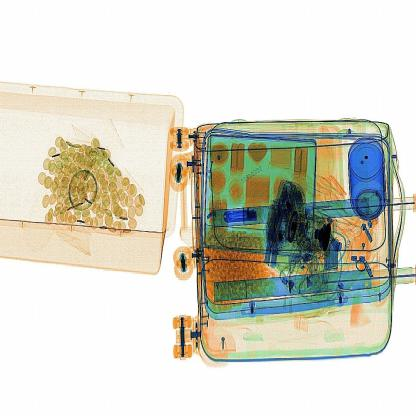knife: (220, 200, 262, 230)
